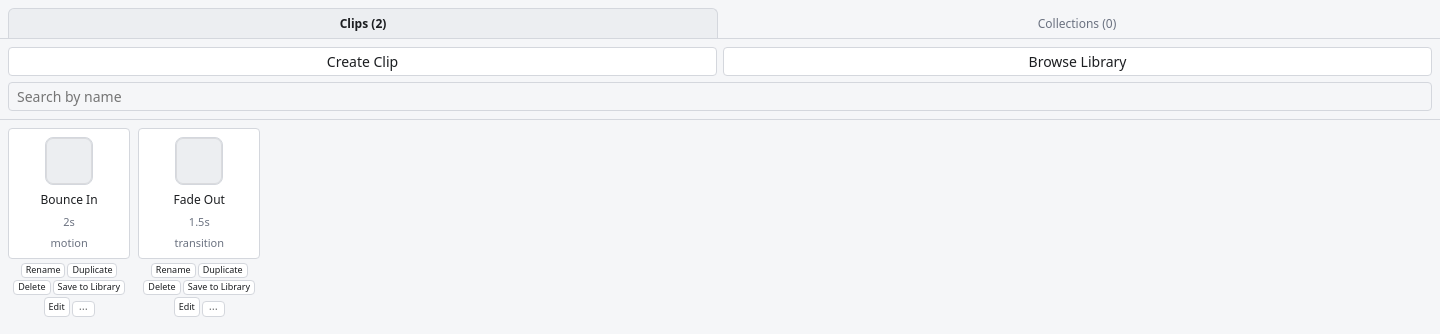
Test: AnimationsPanel › renames a clip from the cell and updates the grid
Expected: the text "Bounce In" is shown, [41,191,98,208]
Click the button with aria-label "Rename Bounce In" at [43, 270], box [21,263,66,278]
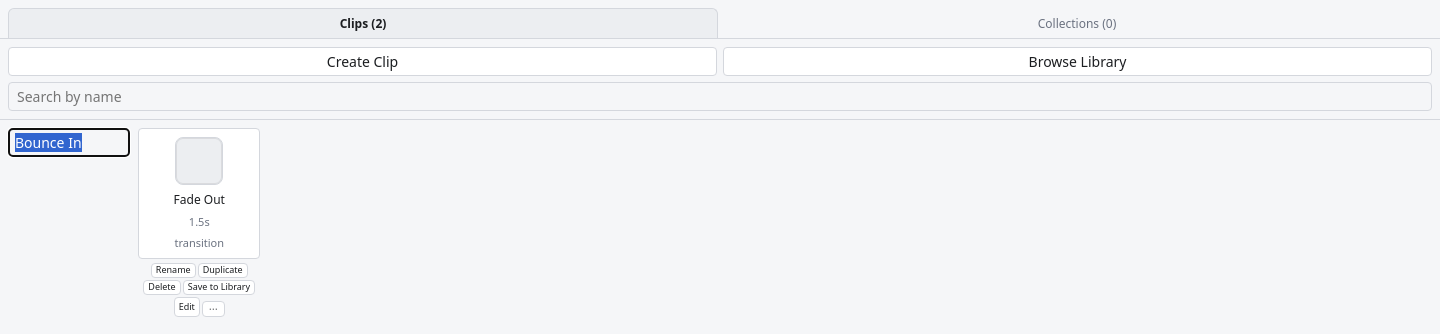
Replace the text in the field named "Clip name" with "Spring Bounce" at [69, 142], box [8,128,130,157]
Then press Enter
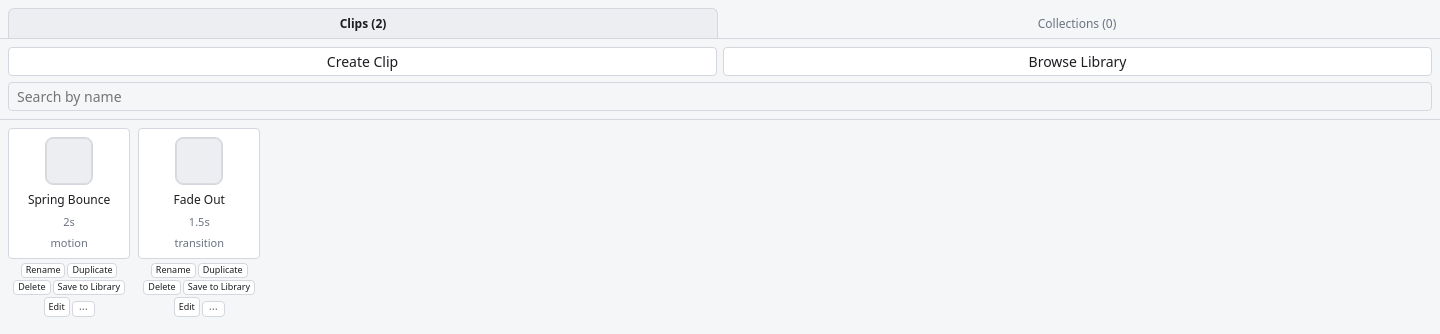
Expected: the button "Bounce In" is not shown
Now the text "Spring Bounce" is shown, box [28,191,110,208]
